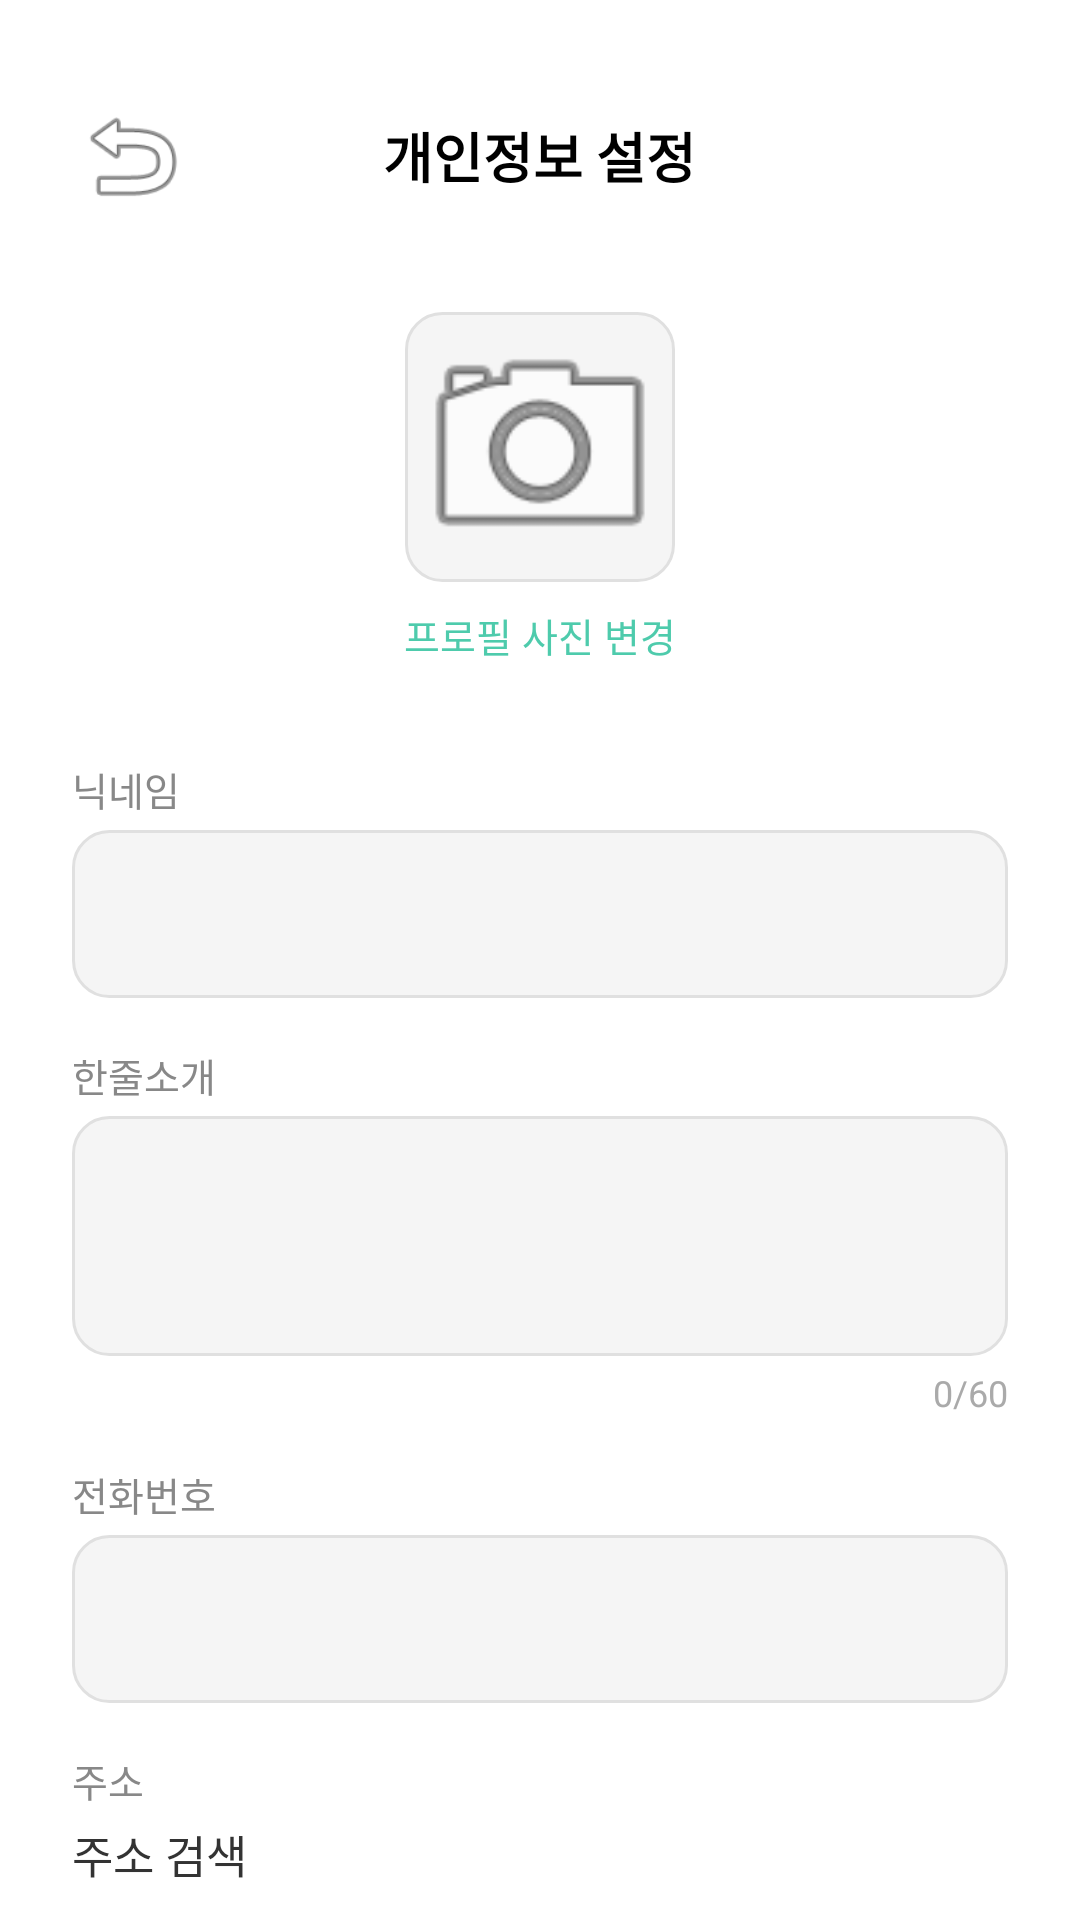

Screen size 1080*1920. Icon name, then its box in pixels as Rect(x1, y1, x2, y2):
camera: Rect(405, 312, 675, 582)
뒤로가기: Rect(90, 117, 177, 196)
